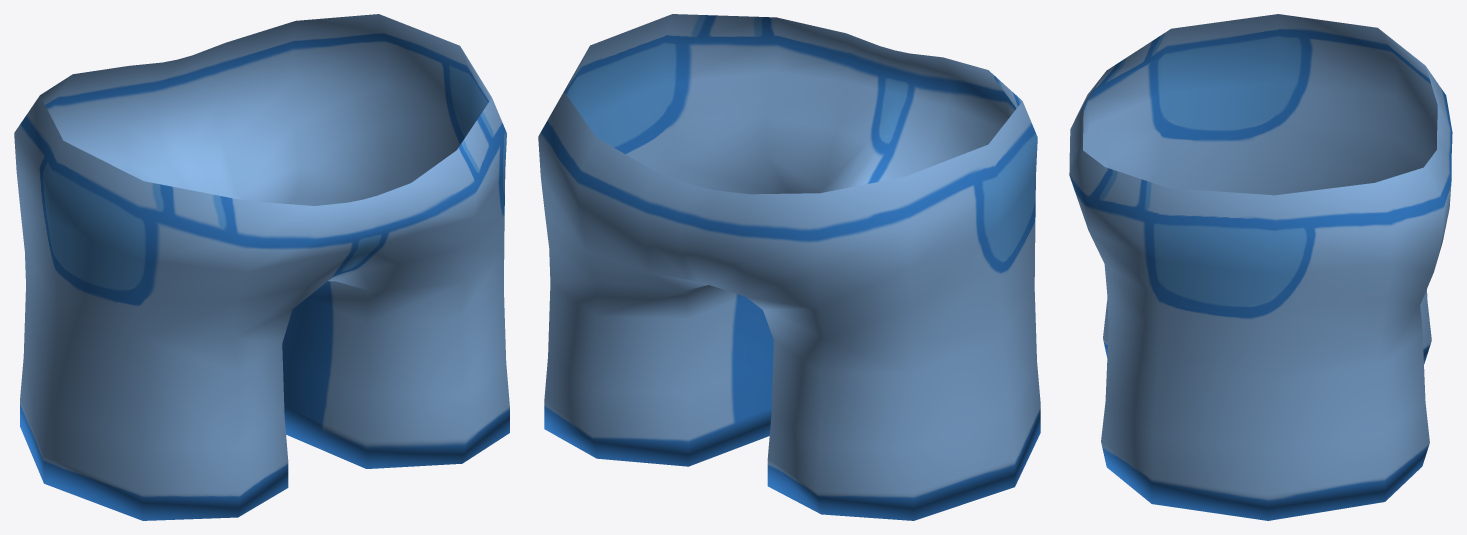
File: short.glb
3 renders of one model, left to right at view 1: azimuth 30°, elevation 25°; view 2: azimuth 150°, elevation 25°; view 3: azimuth 270°, elevation 25°, orthographic. The views are drawn at different scales.
Parts seen in each view (by area): view 1: pantalones; view 2: pantalones; view 3: pantalones.
Boxes of the visible parts, bbox=[...] form: pantalones: bbox=[14, 14, 509, 520]; pantalones: bbox=[538, 14, 1040, 520]; pantalones: bbox=[1069, 14, 1452, 520].
Bounding box in the file's own units: 0.4964 × 0.3623 × 0.3973.
Materials: 1 (1 with a texture image).
